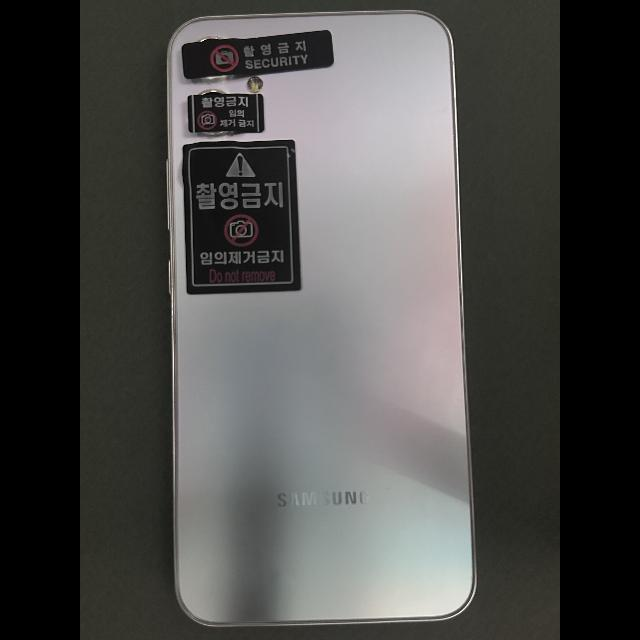lens: (198, 36, 222, 42), (199, 90, 226, 95)
phone: (166, 9, 478, 628)
sticker: (182, 139, 301, 295), (182, 30, 334, 80), (188, 93, 265, 133)
